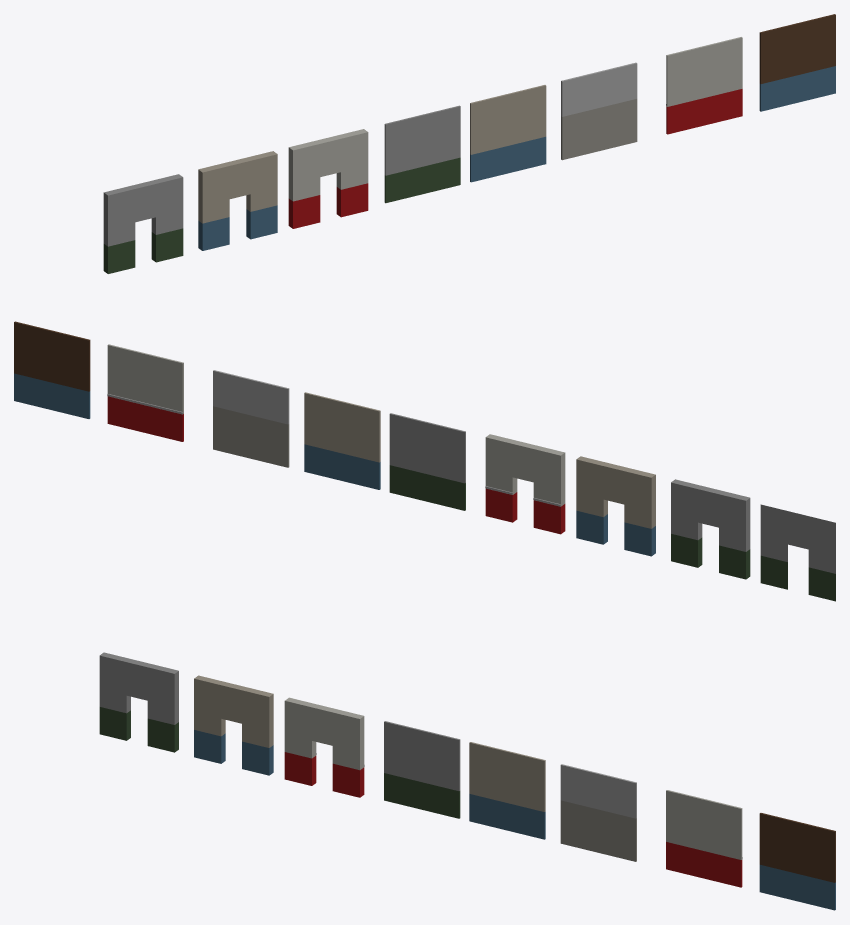
The model's file is Rooms.glb.
3 renders of one model, top to bottom at view 1: azimuth 30°, elevation 25°; view 2: azimuth 150°, elevation 25°; view 3: azimuth 330°, elevation 25°, orthographic.
Parts seen in each view (by area): view 1: TemplateWall, TemplateWallWood, TemplateWallGrid, TemplateWallRed, TemplateWallLux, TemplateDoorWay, TemplateDoorWayRed, TemplateDoorWayBlue&White; view 2: TemplateWall, TemplateWallLux, TemplateWallRed, TemplateWallWood, TemplateWallGrid, TemplateDoorWayRed, TemplateDoorWayBlue&White, TemplateDoorWay, TemplateDoorWayFlat; view 3: TemplateWall, TemplateWallLux, TemplateWallRed, TemplateWallWood, TemplateWallGrid, TemplateDoorWayRed, TemplateDoorWay, TemplateDoorWayBlue&White.
Part boxes in pixels (<box>): TemplateWall: <box>384,105,460,203</box>; TemplateWallWood: <box>759,14,835,111</box>; TemplateWallGrid: <box>561,62,637,160</box>; TemplateWallRed: <box>666,37,742,134</box>; TemplateWallLux: <box>470,85,546,182</box>; TemplateDoorWay: <box>103,174,183,273</box>; TemplateDoorWayRed: <box>288,129,368,228</box>; TemplateDoorWayBlue&White: <box>198,151,277,250</box>; TemplateWall: <box>389,413,465,510</box>; TemplateWallLux: <box>304,392,380,489</box>; TemplateWallRed: <box>107,344,183,441</box>; TemplateWallWood: <box>14,321,90,418</box>; TemplateWallGrid: <box>213,370,289,467</box>; TemplateDoorWayRed: <box>485,434,565,534</box>; TemplateDoorWayBlue&White: <box>576,456,655,556</box>; TemplateDoorWay: <box>671,479,750,579</box>; TemplateDoorWayFlat: <box>760,504,835,601</box>; TemplateWall: <box>384,721,460,818</box>; TemplateWallLux: <box>469,742,545,839</box>; TemplateWallRed: <box>666,790,742,887</box>; TemplateWallWood: <box>759,813,835,910</box>; TemplateWallGrid: <box>560,764,636,861</box>; TemplateDoorWayRed: <box>284,697,364,797</box>; TemplateDoorWay: <box>99,652,178,752</box>; TemplateDoorWayBlue&White: <box>194,675,273,775</box>.
Bounding box in the file's own units: 43.7 × 4 × 0.42.
